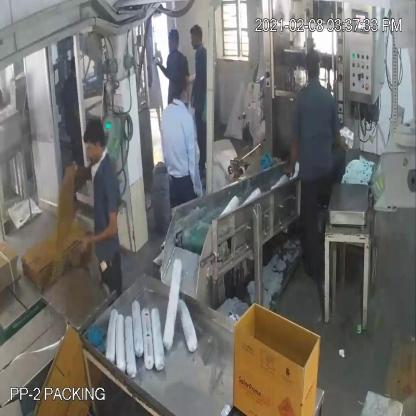no_glove: (78, 206, 129, 254)
